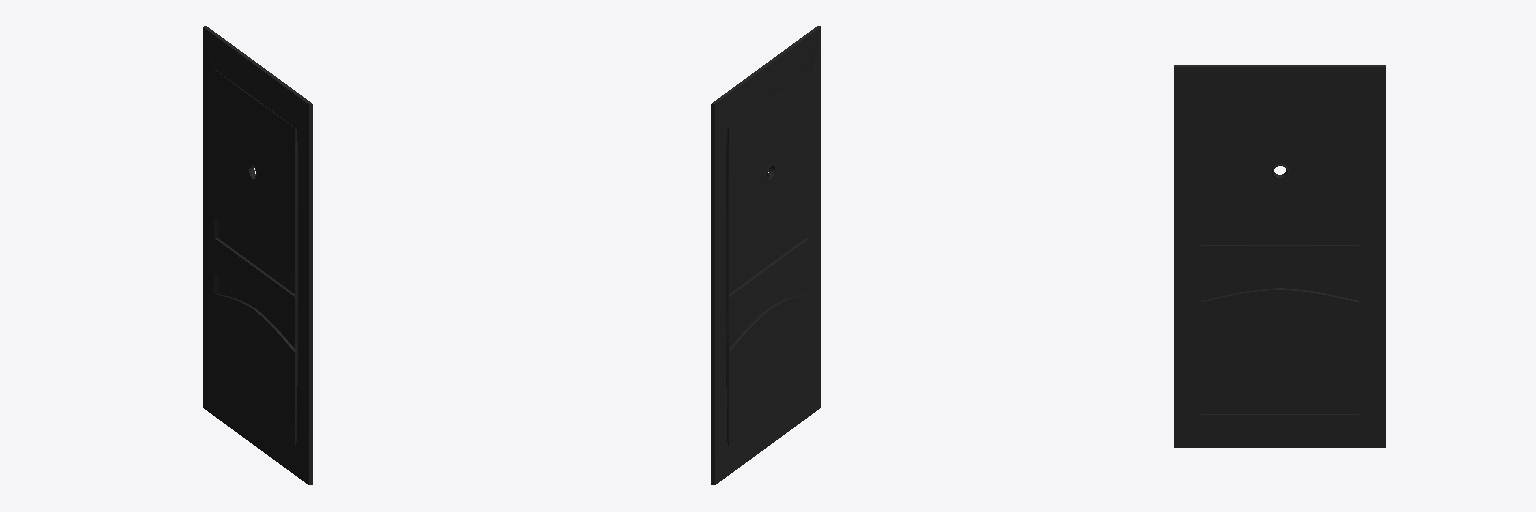
File: drzwi.obj
3 views of the same model, side by side, from view 1: azimuth 30°, elevation 25°; view 2: azimuth 150°, elevation 25°; view 3: azimuth 270°, elevation 25° (orthographic).
Parts seen in each view (by area): view 1: Plane.017_Plane.010; view 2: Plane.017_Plane.010; view 3: Plane.017_Plane.010.
Boxes of the visible parts, <box> form: Plane.017_Plane.010: <box>203,26,312,484</box>; Plane.017_Plane.010: <box>711,26,820,484</box>; Plane.017_Plane.010: <box>1174,65,1385,447</box>.
Size of the model in its own units: 0.0375 by 1.98 by 1.